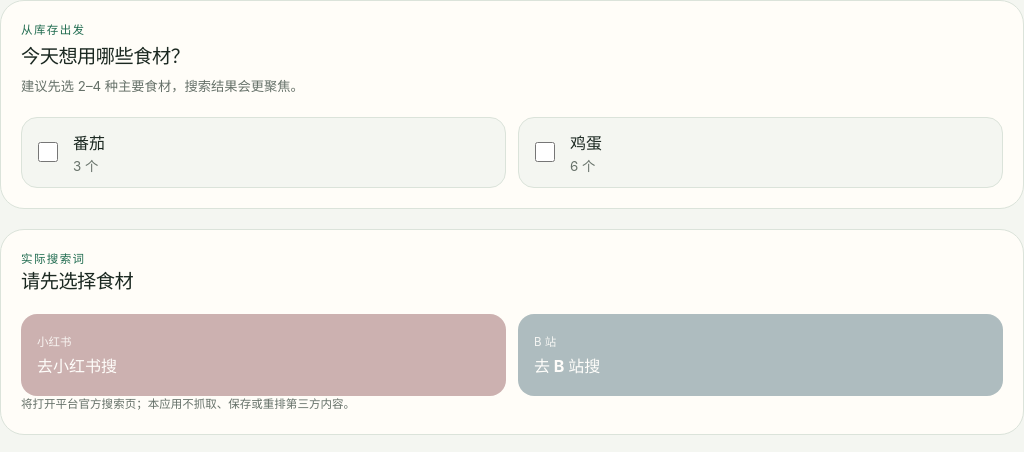
Scenario: RecipeSearch › 从库存选择食材并生成两个平台链接
Check: the button "小红书 去小红书搜" is disabled, box [21,314,506,396]
Click the checkbox labelled "番茄 3 个": (48, 152) [38,142,58,162]
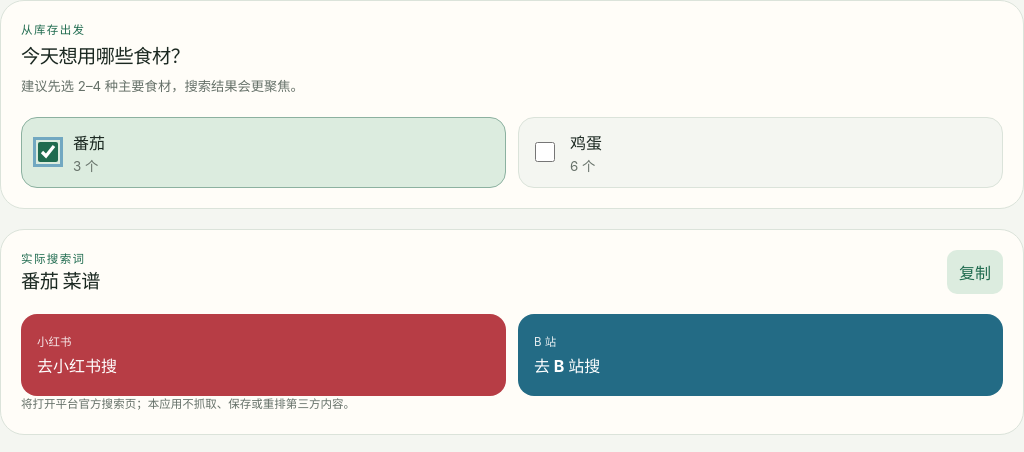
Click the checkbox labelled "鸡蛋 6 个": (545, 152) [535,142,555,162]
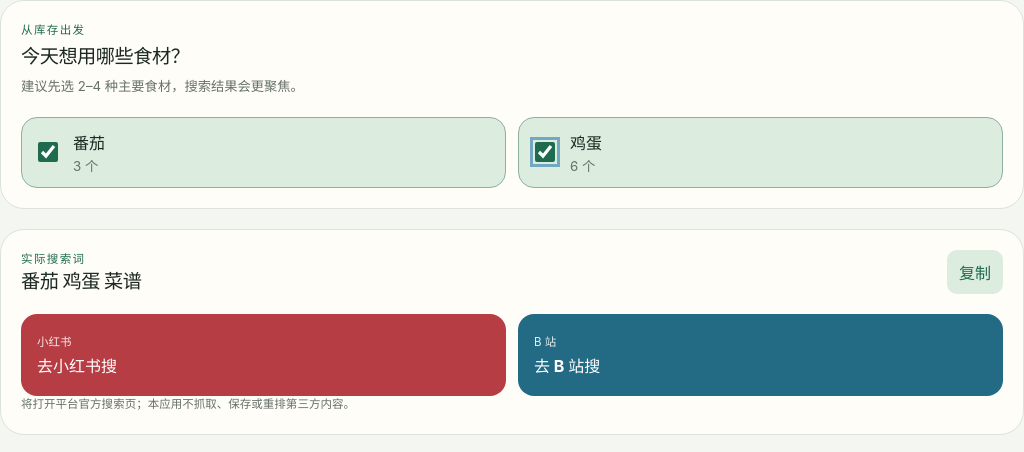
Check: the heading "番茄 鸡蛋 菜谱" is shown, box [21,266,141,294]
